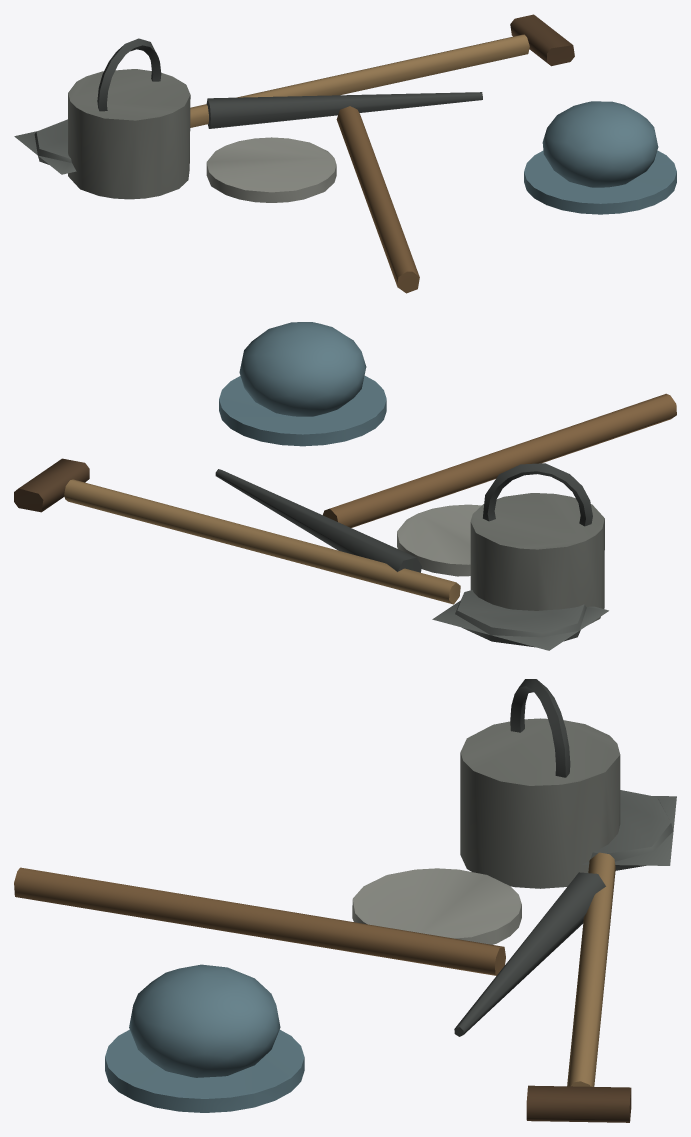
File: tool_drop_b_lod1.glb
3 renders of one model, top to bottom at view 1: azimuth 30°, elevation 25°; view 2: azimuth 150°, elevation 25°; view 3: azimuth 270°, elevation 25°, orthographic. The views are drawn at different scales.
Visible parts, largest first — view 1: Surface.001; view 2: Surface.001; view 3: Surface.001.
Part boxes in pixels (bbox=[...]): Surface.001: bbox=[14, 14, 676, 293]; Surface.001: bbox=[14, 322, 676, 650]; Surface.001: bbox=[14, 679, 676, 1122].
Bounding box in the file's own units: 1.49 × 0.3687 × 1.28.
